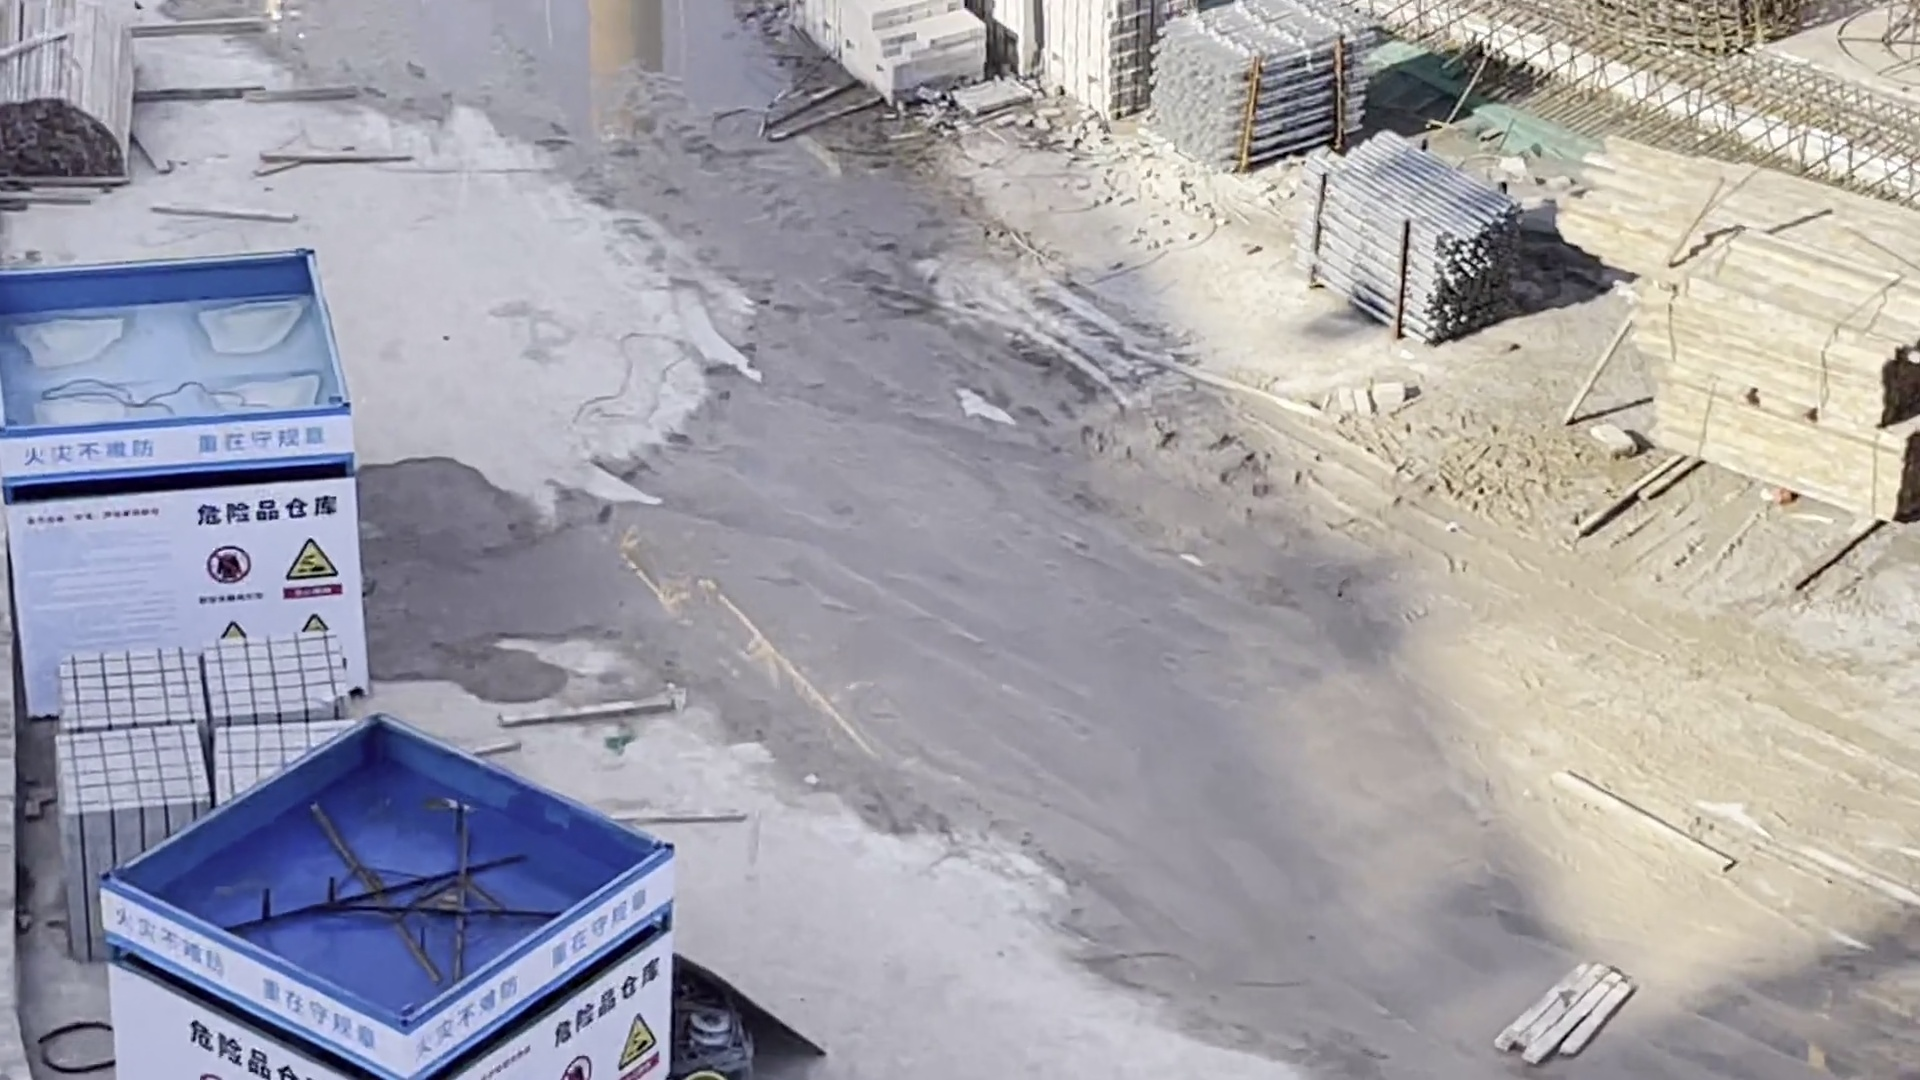brick: (53, 645, 305, 812), (827, 1, 1153, 123)
scaffold: (1302, 142, 1532, 342), (1156, 18, 1369, 157)
slogan: (109, 882, 388, 1051), (15, 419, 344, 487), (400, 945, 737, 1010)
wood: (1615, 170, 1920, 539)
